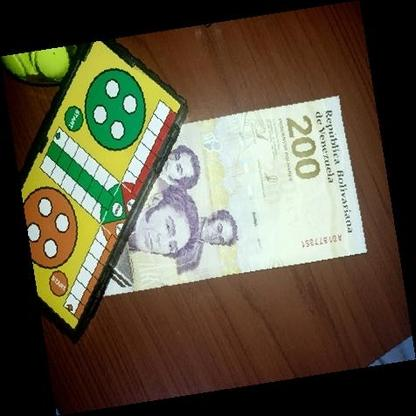two_hundred-front-vef: (102, 95, 368, 297)
